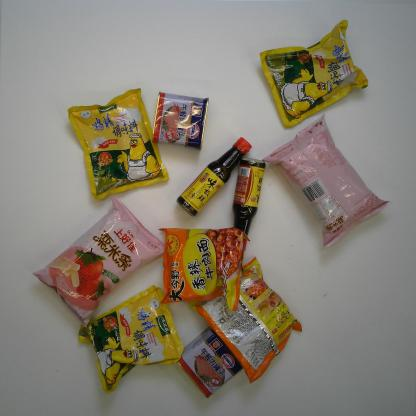Canned Food: (176, 324, 245, 399), (151, 91, 209, 151)
Instant Noodles: (186, 257, 302, 384), (158, 228, 251, 314)
Puffed Food: (30, 196, 168, 328), (261, 114, 391, 249)
Seasoner: (259, 19, 369, 129), (67, 88, 170, 204), (77, 285, 185, 393), (176, 136, 252, 218), (232, 157, 266, 255)
